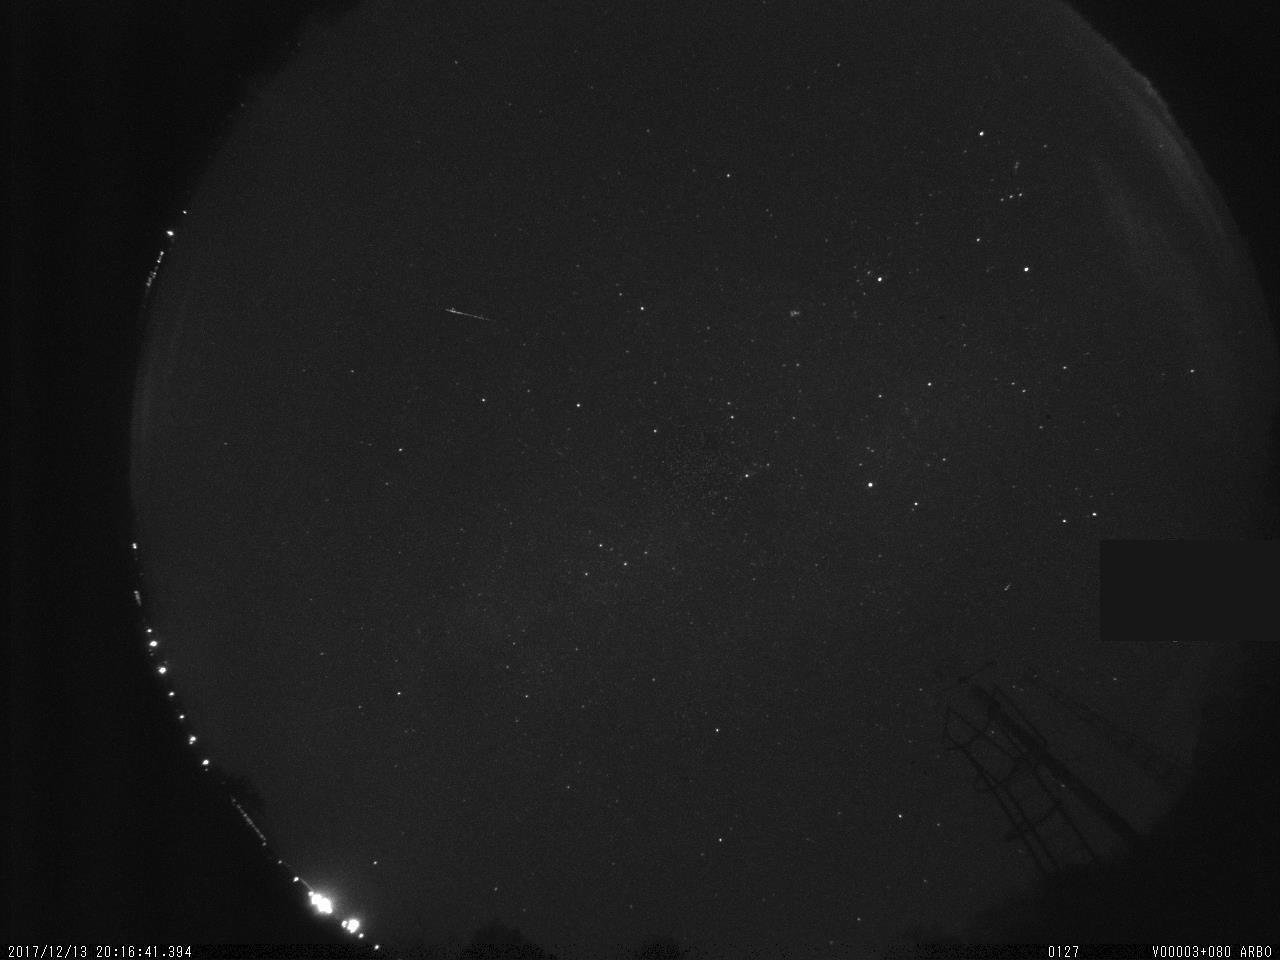meteor: (433, 295, 508, 328)
